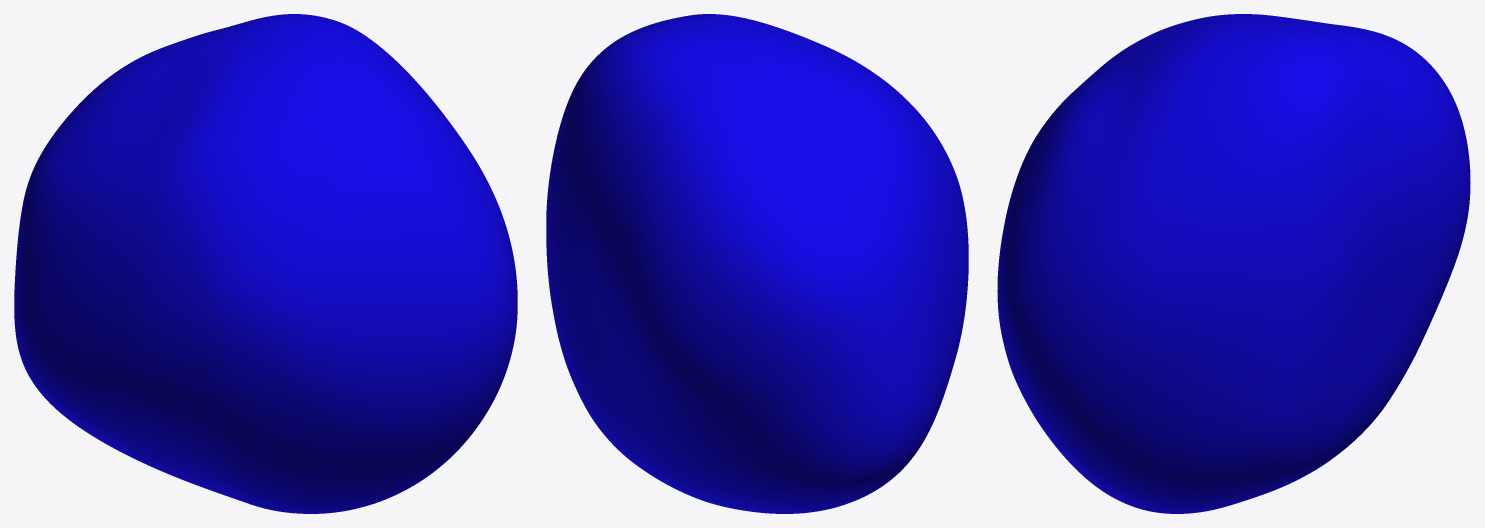
File: GlassBlob.glb
3 renders of one model, left to right at view 1: azimuth 30°, elevation 25°; view 2: azimuth 150°, elevation 25°; view 3: azimuth 270°, elevation 25°, orthographic. The views are drawn at different scales.
Visible parts, largest first — view 1: Icosphere.007; view 2: Icosphere.007; view 3: Icosphere.007.
Boxes of the visible parts, x1,y1,x2,y2 form: Icosphere.007: (14,14,517,513); Icosphere.007: (546,14,968,513); Icosphere.007: (997,14,1470,513).
Size of the model in its own units: 20.57 by 22.45 by 20.57.
